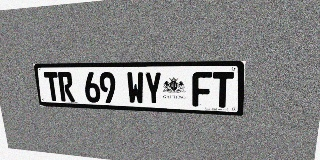6: (83, 72, 101, 103)
9: (99, 72, 117, 103)
F: (192, 72, 212, 107)
R: (58, 72, 75, 102)
T: (212, 72, 234, 108), (44, 72, 61, 101)
W: (126, 72, 145, 104)
Y: (144, 72, 163, 105)
